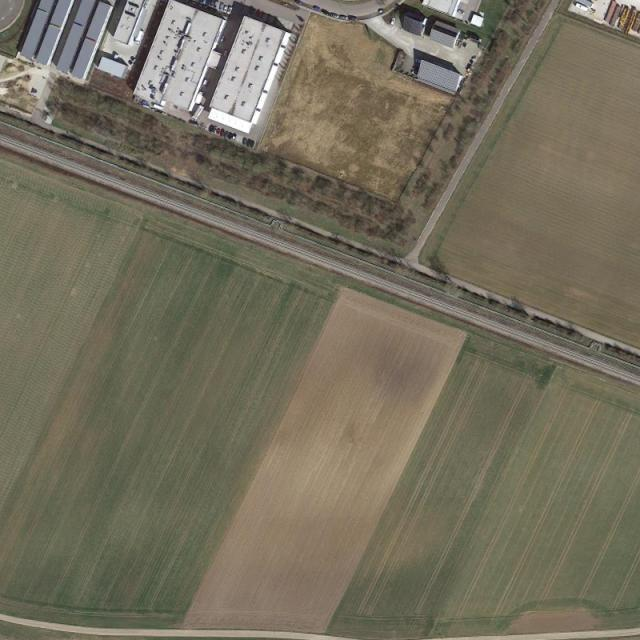vehicle: (312, 5, 321, 14), (339, 14, 348, 22), (226, 6, 233, 15), (222, 4, 229, 13), (321, 9, 330, 16), (349, 15, 358, 21), (330, 13, 338, 19), (242, 137, 247, 146), (219, 2, 224, 11), (214, 1, 219, 10), (391, 19, 397, 26), (232, 134, 237, 142), (246, 138, 251, 146), (220, 35, 225, 42), (221, 130, 225, 138), (213, 126, 217, 134), (209, 124, 213, 132), (224, 131, 228, 138), (250, 141, 254, 148), (217, 129, 221, 134), (228, 133, 232, 138)
